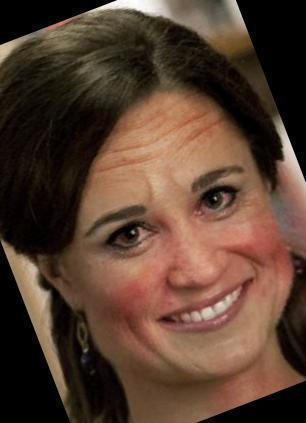Drunk: (64, 113, 292, 366)
